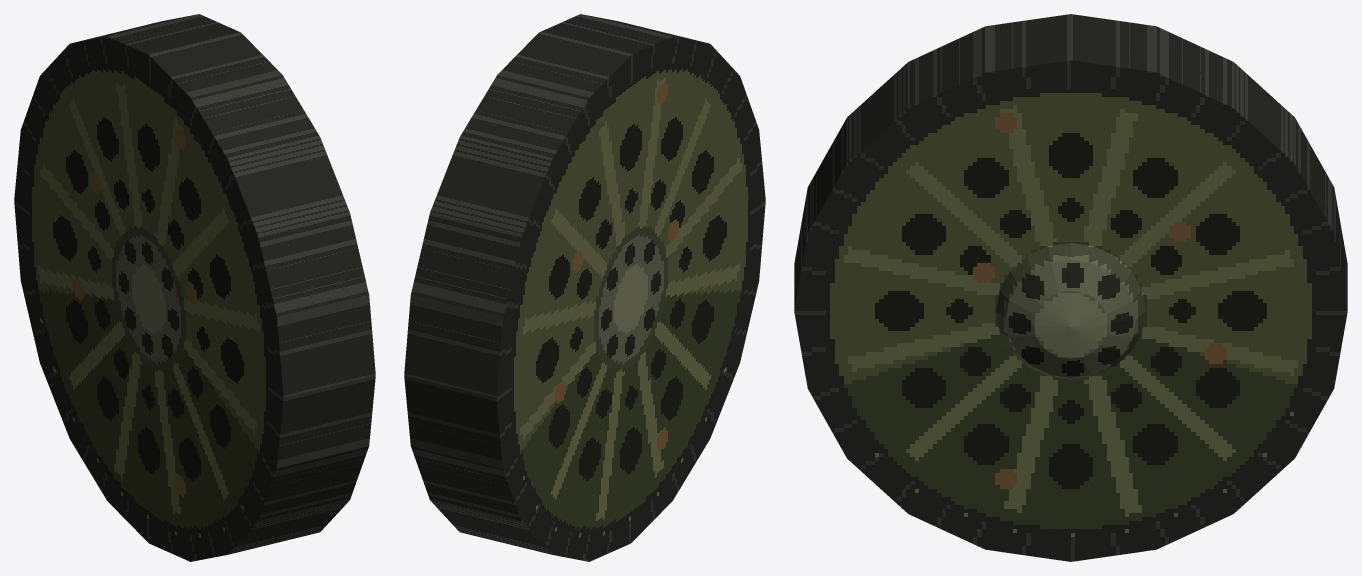
3 views of the same model, side by side, from view 1: azimuth 30°, elevation 25°; view 2: azimuth 150°, elevation 25°; view 3: azimuth 270°, elevation 25° (orthographic). The views are drawn at different scales.
Parts seen in each view (by area): view 1: WheelL1; view 2: WheelL1; view 3: WheelL1.
Part boxes in pixels (box(x1,y1,x2,y2)): WheelL1: box(14, 14, 375, 561); WheelL1: box(404, 14, 765, 561); WheelL1: box(794, 14, 1347, 561).
Bounding box in the file's own units: 0.215 × 0.81 × 0.81.
1 material, 1 textured.
